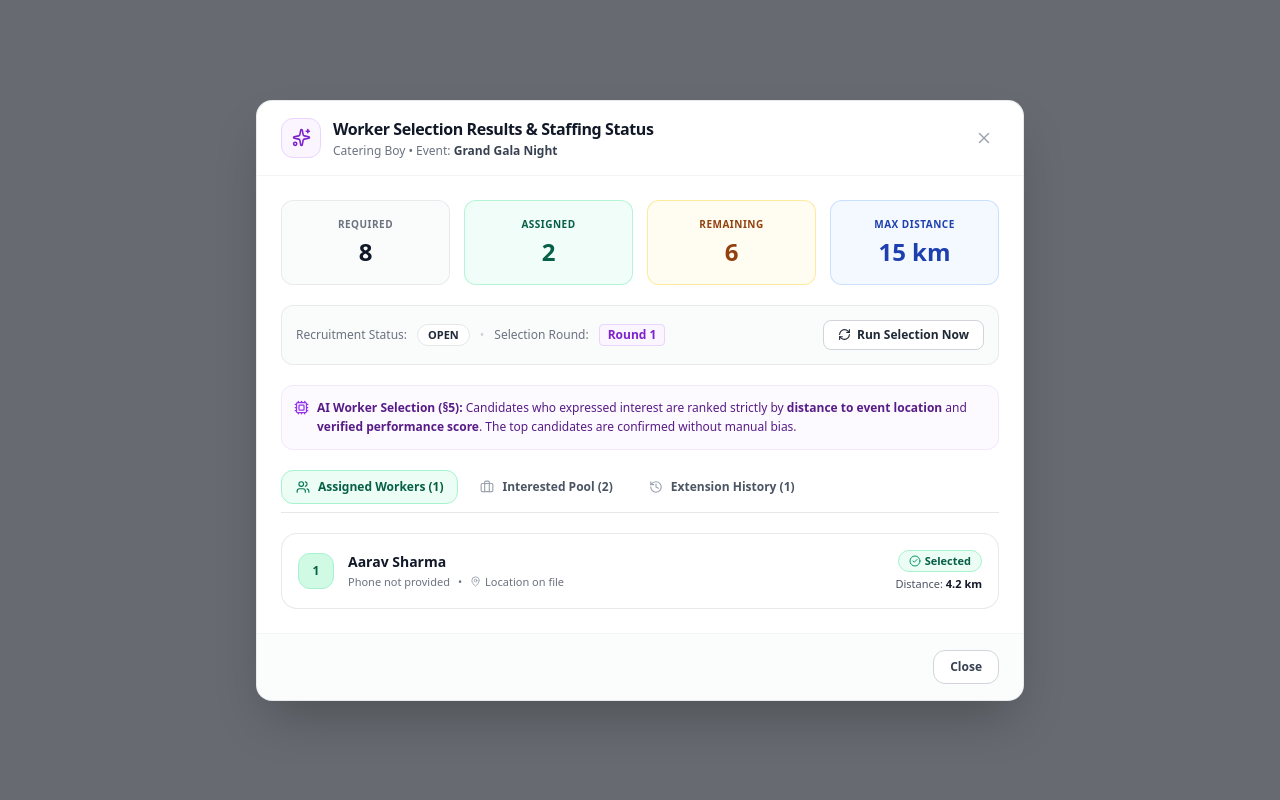
Scenario: Worker Selection Engine Frontend UI Tests › SelectionResultsModal Component › loads and displays assigned workers and candidates pool
This screenshot has width=1280, height=800.
Check: the text "Aarav Sharma" is shown, box [348,552,446,570]
Check: the text "4.2 km" is shown, box [946,576,982,590]
# Switch to candidates tab
Click the button "Interested Pool (2)" at x=547, y=486, box [466,470,627,502]
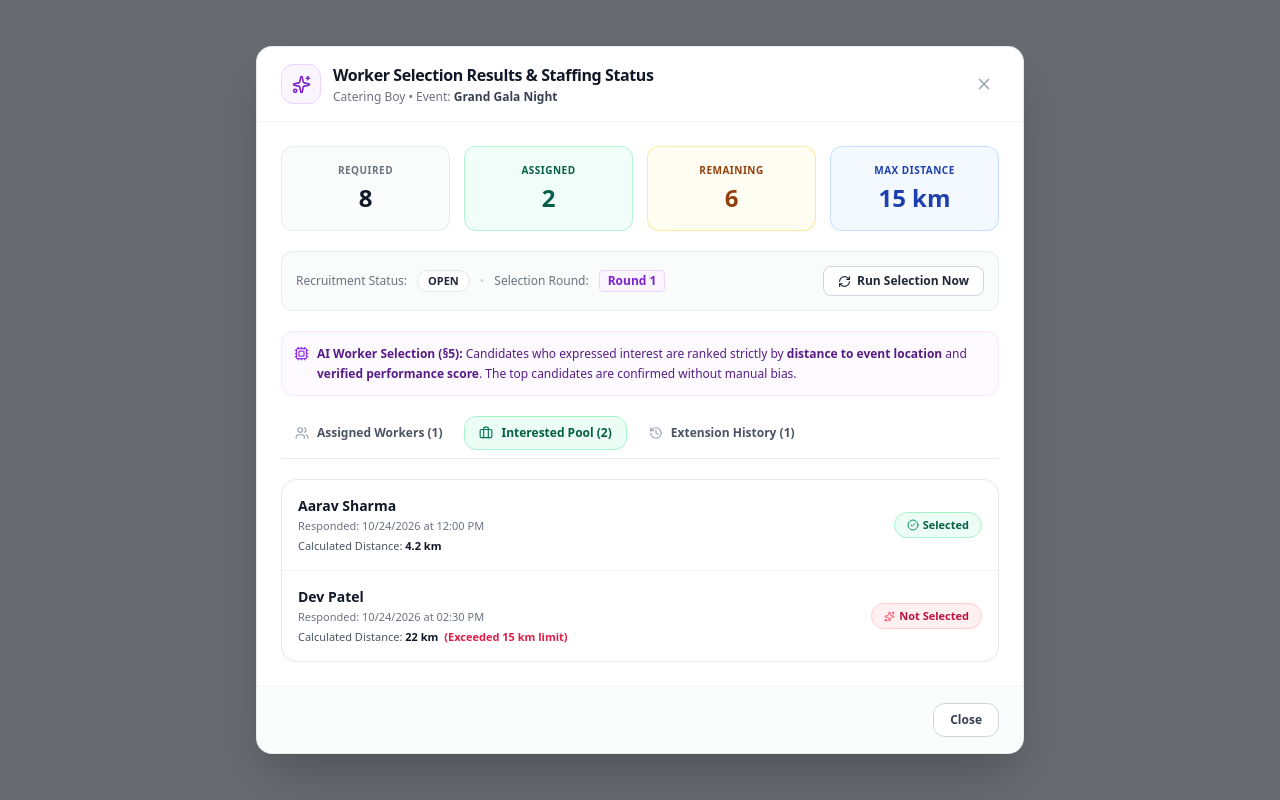
Check: the text "Dev Patel" is shown, box [298,587,364,606]
Check: the text "(Exceeded 15 km limit)" is shown, box [444,629,568,644]
